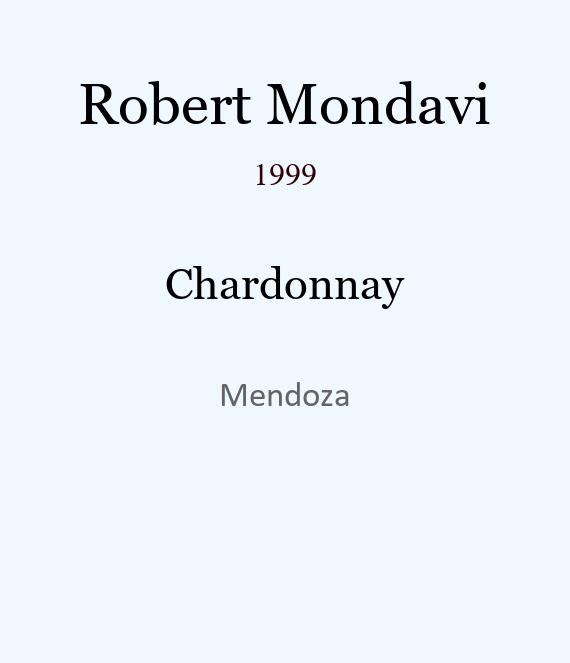brand: (78, 71, 491, 115)
region: (219, 379, 351, 403)
variety: (165, 258, 405, 301)
vintage: (253, 156, 317, 177)
